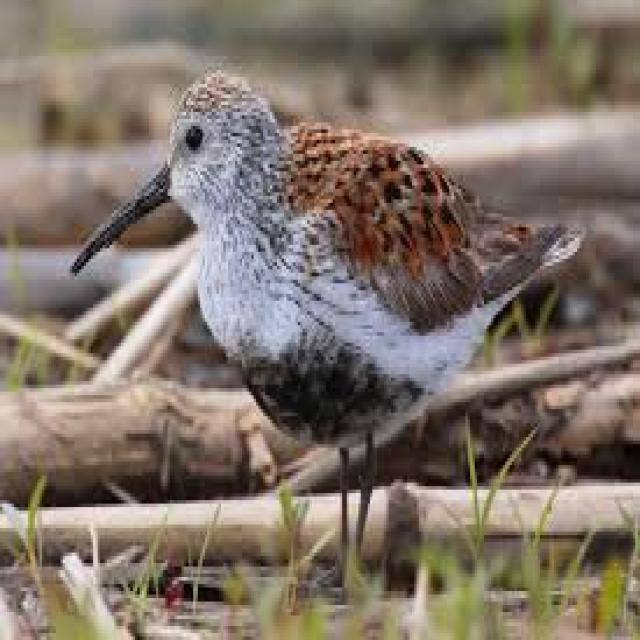Sandpiper: (72, 67, 539, 542)
